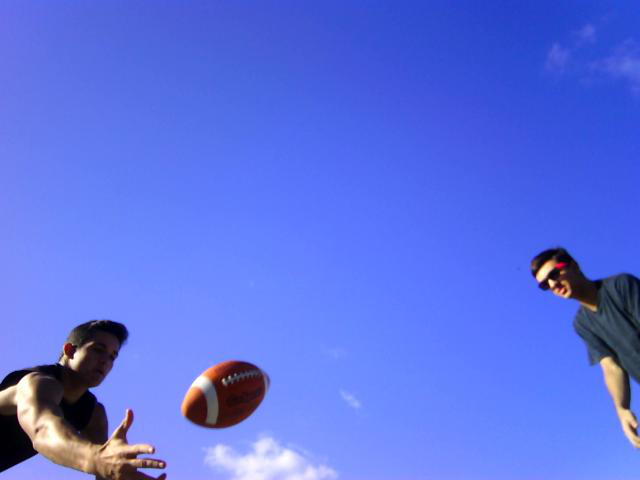football: (178, 361, 271, 430)
